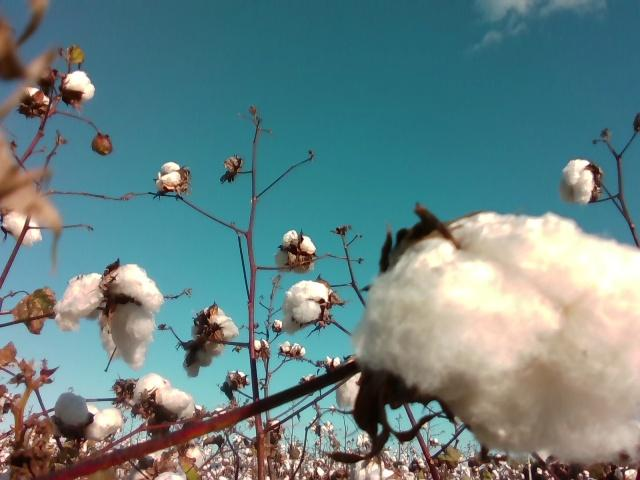cotton_ready: (354, 211, 640, 467), (53, 261, 161, 371), (132, 375, 198, 421), (283, 280, 330, 335), (195, 305, 239, 358), (275, 229, 317, 274), (558, 159, 598, 206), (52, 391, 89, 437), (3, 208, 45, 248), (85, 407, 127, 447), (337, 363, 368, 414), (63, 71, 97, 106), (185, 343, 215, 379), (16, 86, 52, 114), (154, 163, 187, 193), (351, 458, 395, 480)
